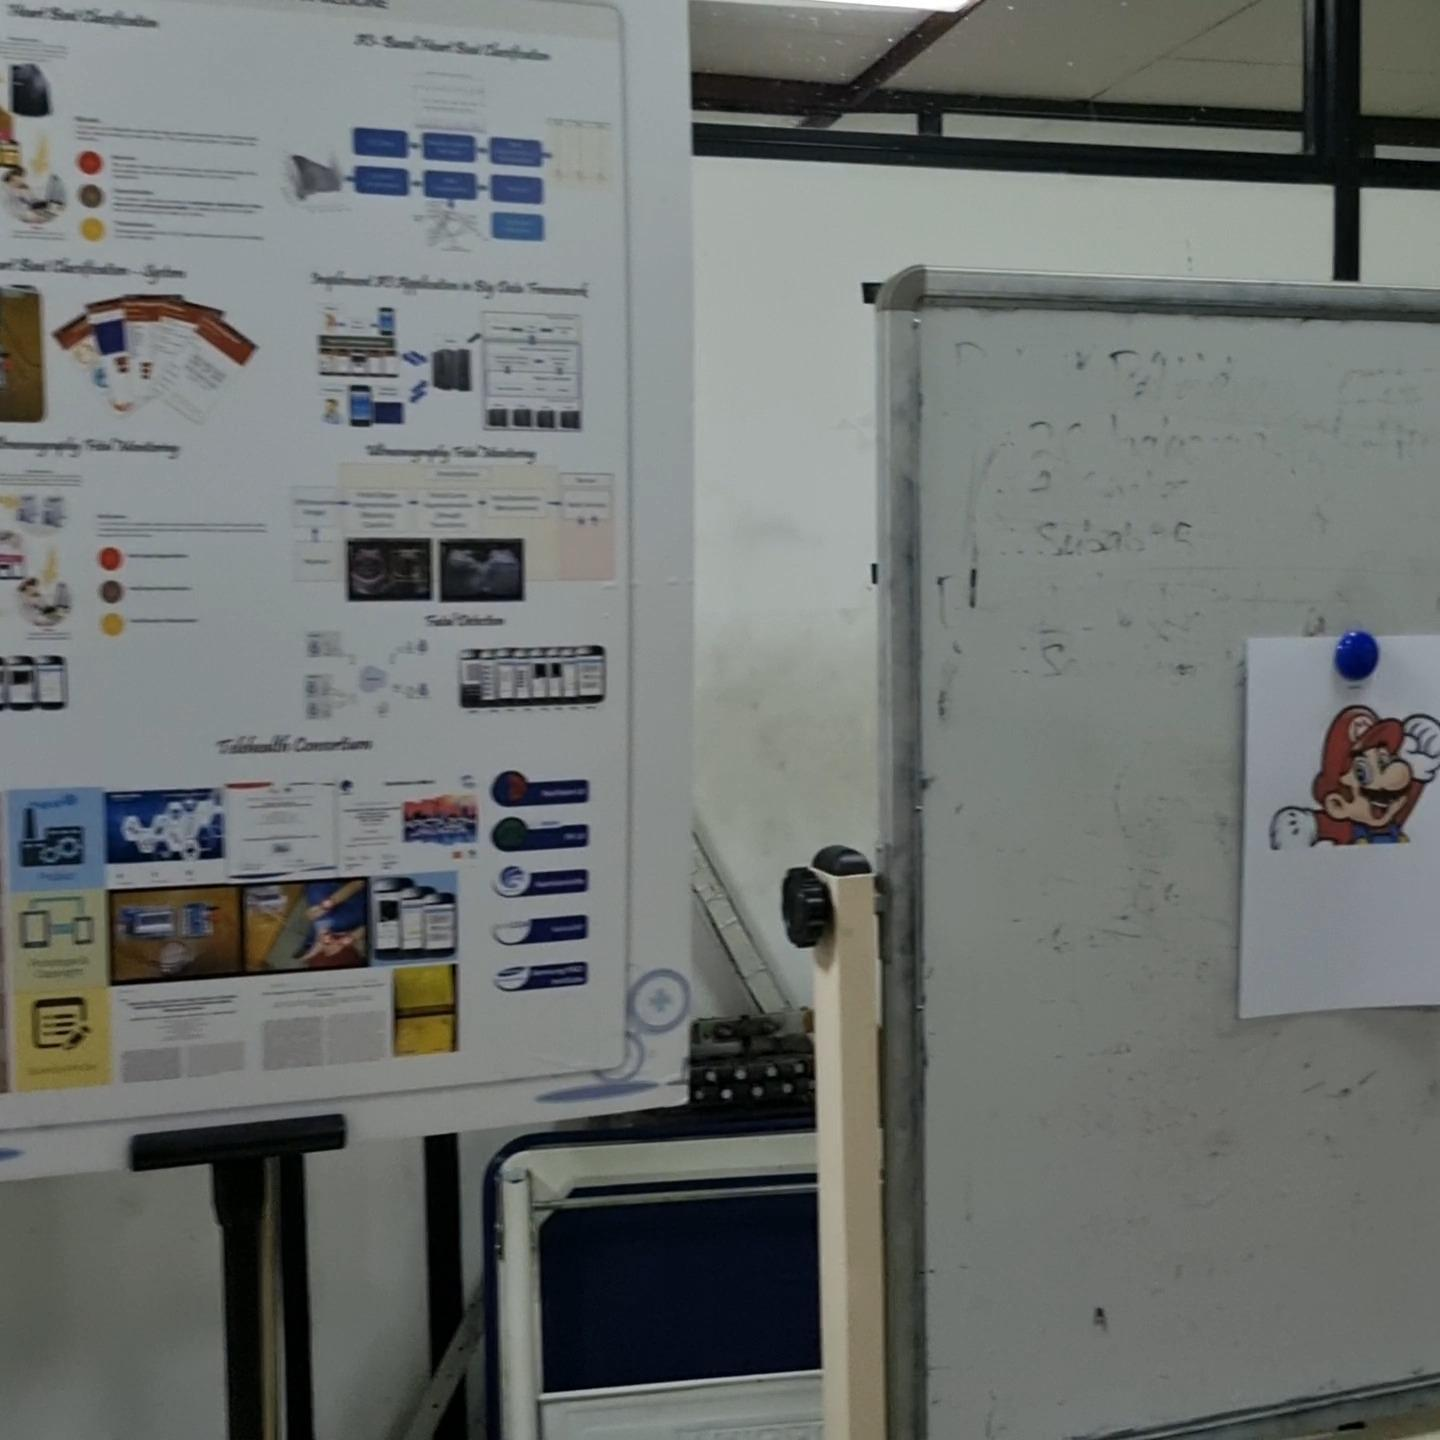mario: (1263, 694, 1440, 858)
